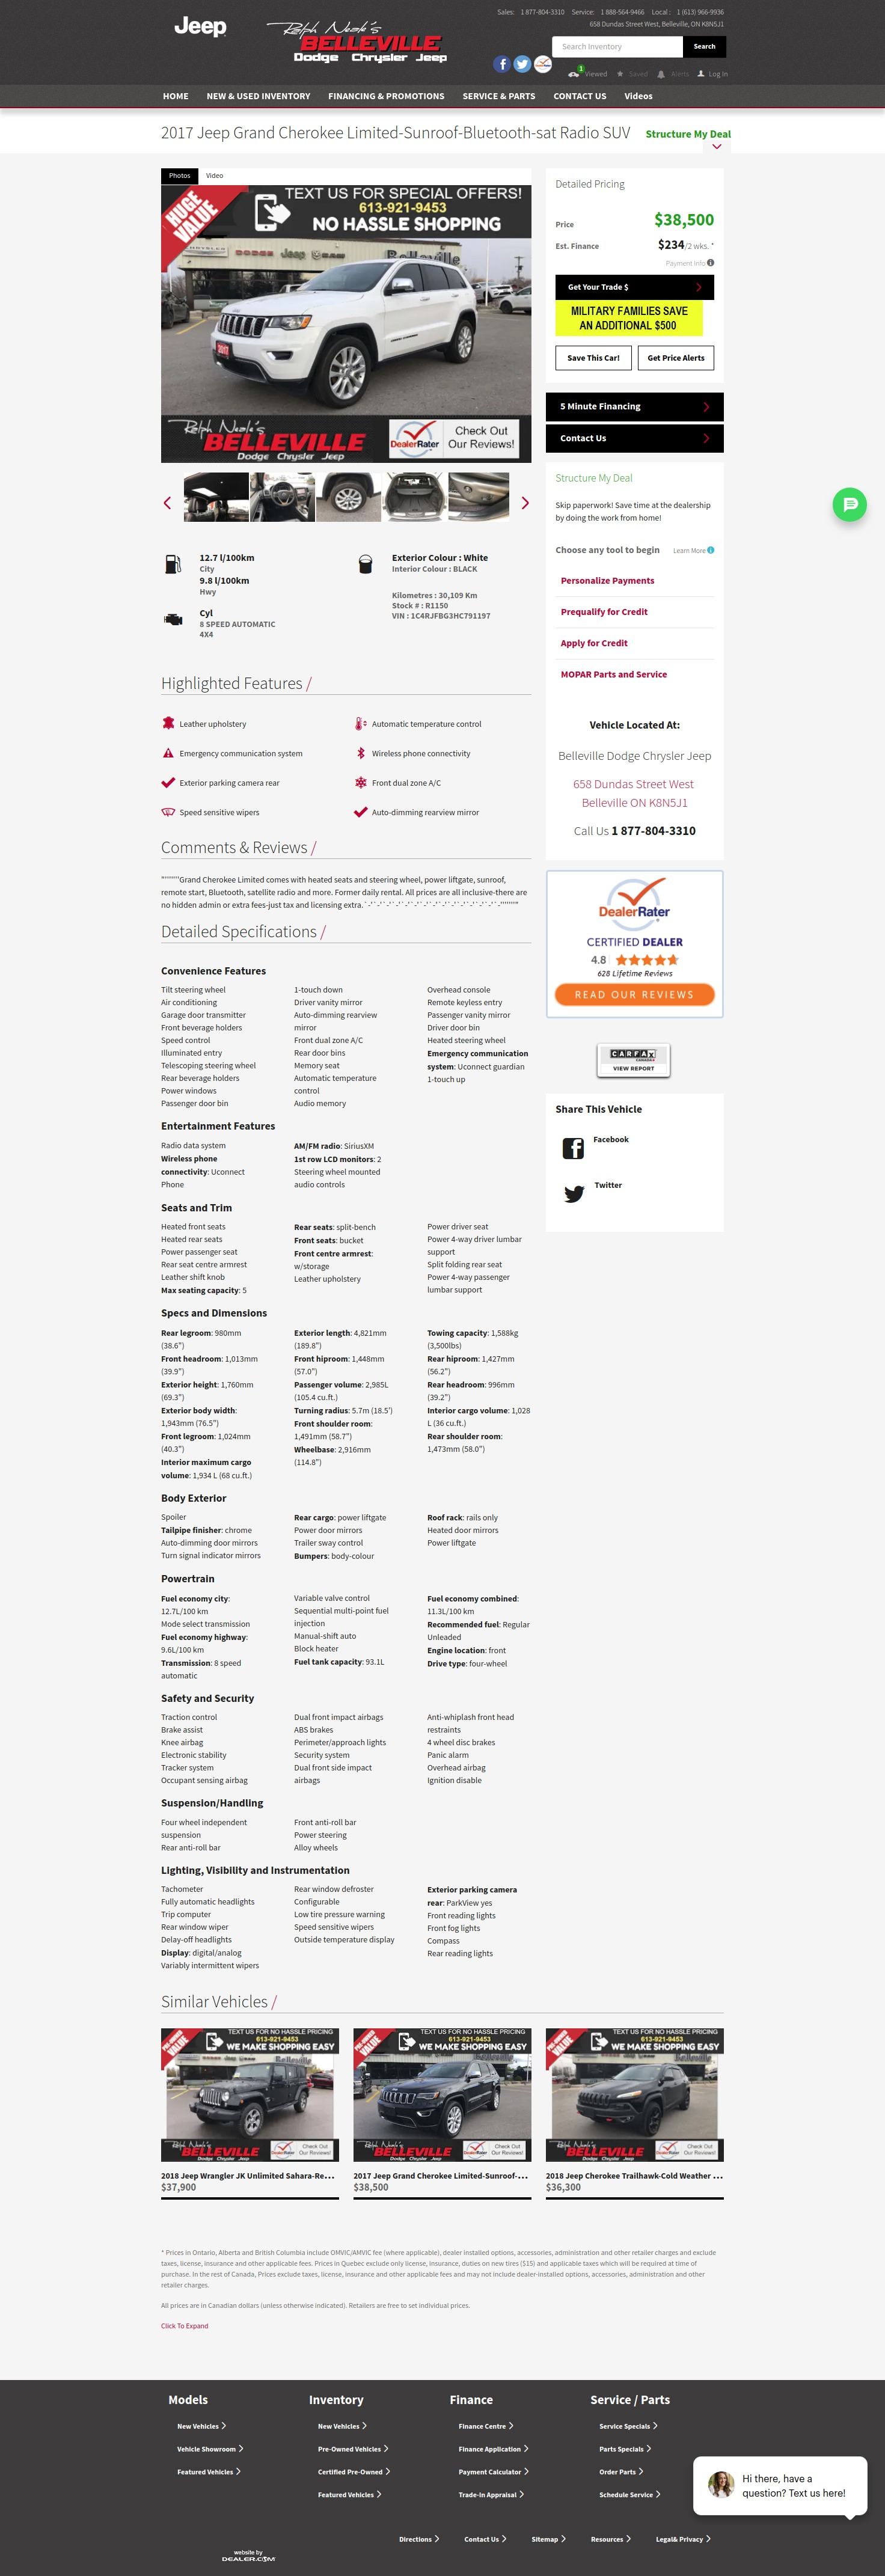car: (520, 496, 530, 511)
